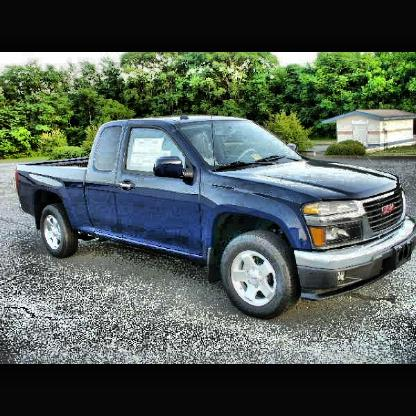GMC Canyon Extended Cab 2012: (14, 113, 416, 323)
